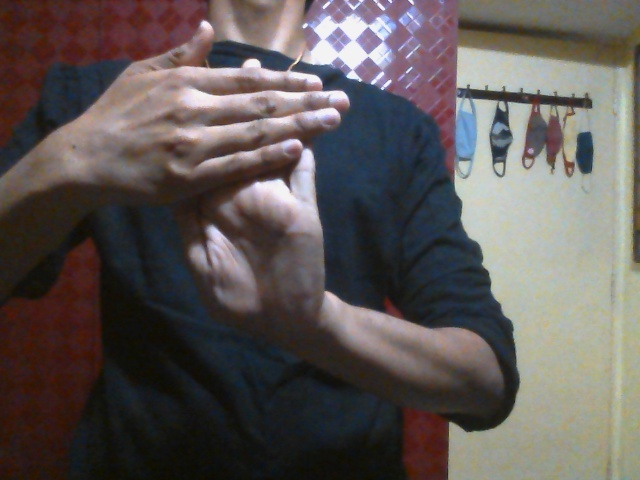H: (104, 21, 351, 334)
